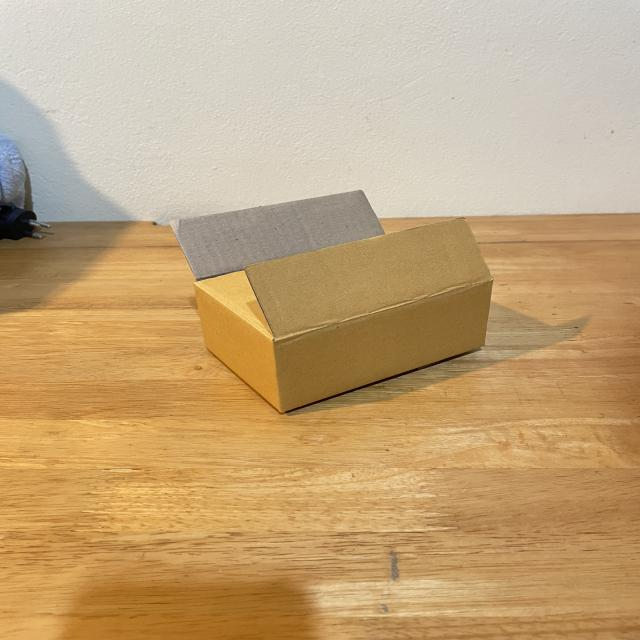box: (171, 189, 495, 415)
opened: (172, 190, 495, 342)
